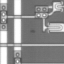dust: (30, 28, 36, 33)
